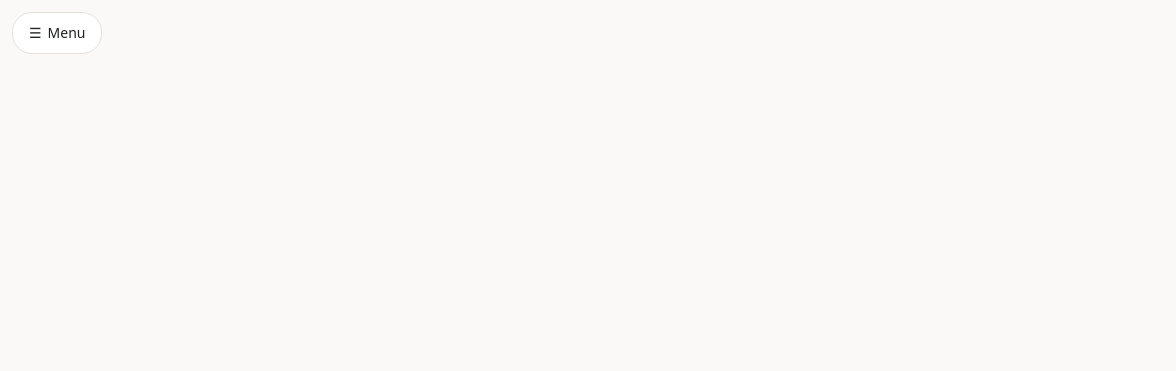
Test: AdminMenu › lukker menuen igen ved endnu et tryk på Menu-knappen
The width and height of the screenshot is (1176, 371).
Click the button "☰ Menu": (57, 33) [12,12,102,54]
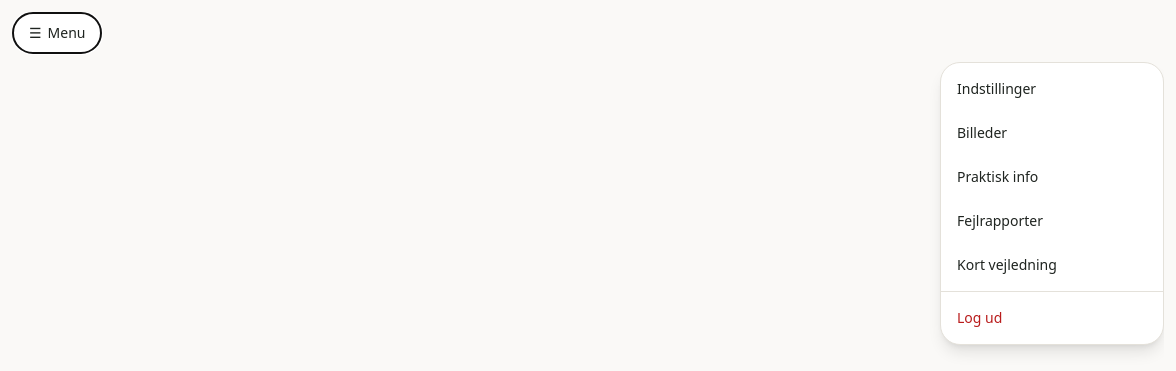
Now the link "Indstillinger" is shown, box [957,79,1036,98]
Click the button "☰ Menu": (57, 33) [12,12,102,54]
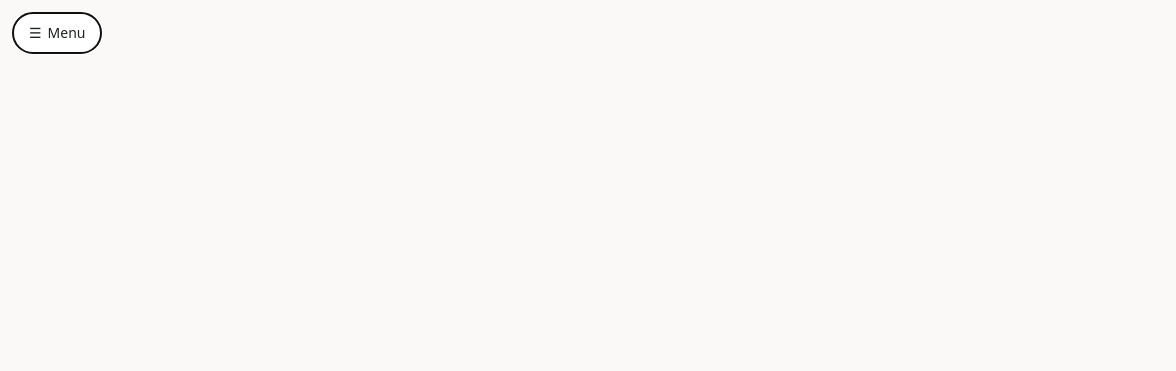
Now the link "Indstillinger" is gone
